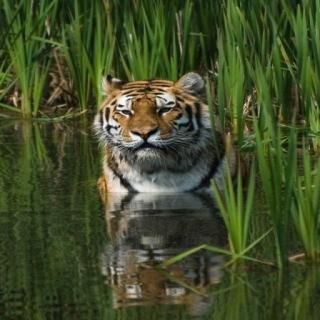Tiger: (82, 70, 234, 182)
